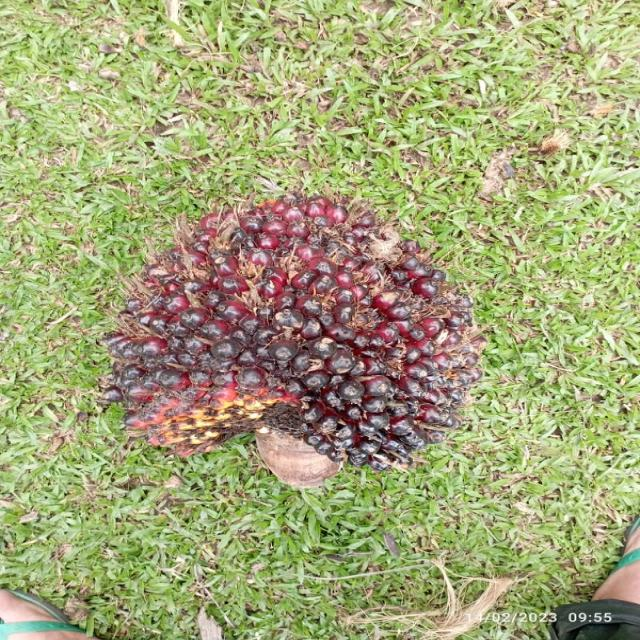fraksi 1: (110, 183, 480, 472)
